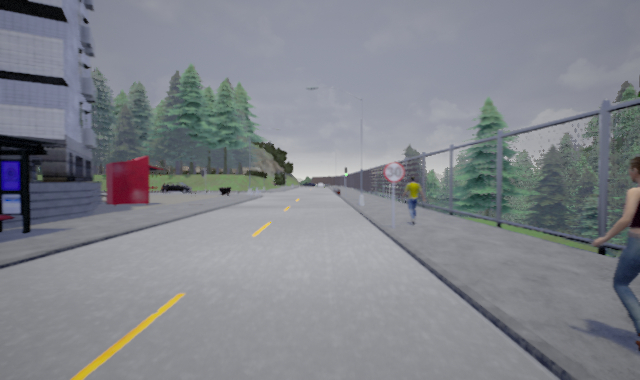pedestrian: (589, 154, 639, 348), (400, 174, 424, 224)
traffic_sign: (381, 162, 407, 185)
